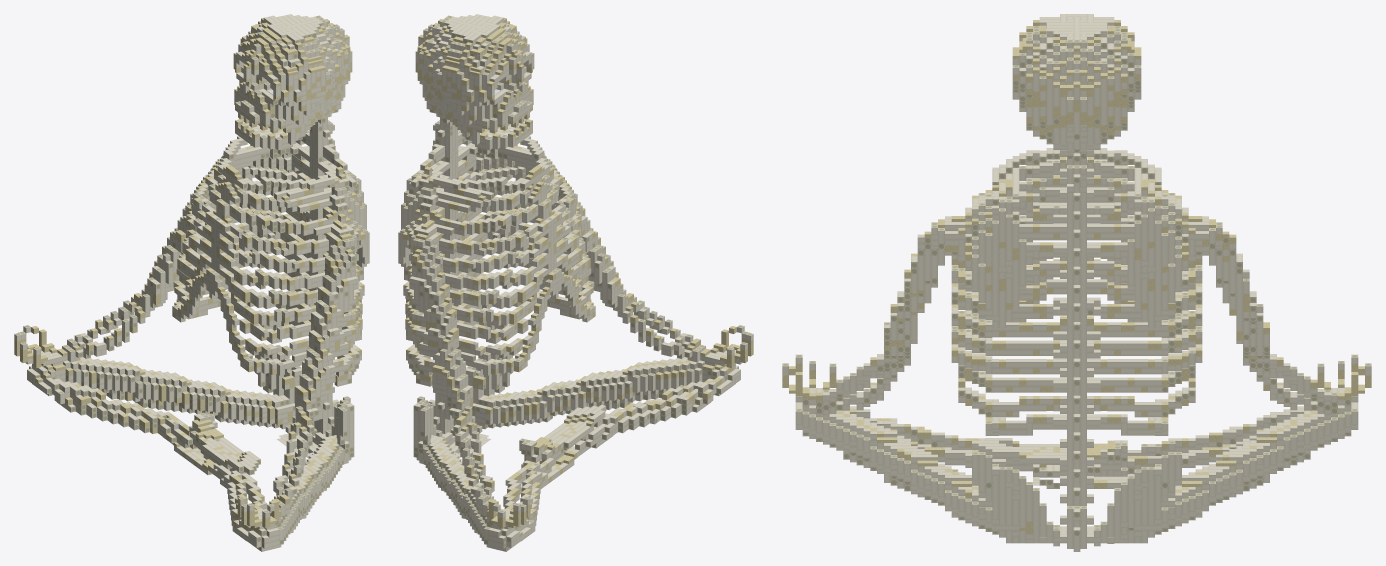
The picture shows the model from 3 angles, left to right: view 1: azimuth 30°, elevation 25°; view 2: azimuth 150°, elevation 25°; view 3: azimuth 270°, elevation 25°; orthographic projection. The views are drawn at different scales.
Parts seen in each view (by area): view 1: Bone_Block, Smooth_Sandstone, Smooth_Sandstone_Slab.001, Smooth_Sandstone_Stairs; view 2: Bone_Block, Smooth_Sandstone, Smooth_Sandstone_Slab.001, Smooth_Sandstone_Stairs; view 3: Bone_Block, Smooth_Sandstone, Smooth_Sandstone_Slab.001.
Part boxes in pixels (x1=…): Bone_Block: x1=14, y1=14, x2=369, y2=551; Smooth_Sandstone: x1=14, y1=34, x2=365, y2=533; Smooth_Sandstone_Slab.001: x1=20, y1=15, x2=356, y2=528; Smooth_Sandstone_Stairs: x1=233, y1=34, x2=323, y2=100; Bone_Block: x1=398, y1=14, x2=753, y2=551; Smooth_Sandstone: x1=402, y1=34, x2=753, y2=528; Smooth_Sandstone_Slab.001: x1=414, y1=15, x2=747, y2=536; Smooth_Sandstone_Stairs: x1=444, y1=34, x2=534, y2=100; Bone_Block: x1=782, y1=14, x2=1371, y2=551; Smooth_Sandstone: x1=782, y1=73, x2=1371, y2=533; Smooth_Sandstone_Slab.001: x1=789, y1=20, x2=1364, y2=486.
Size of the model in its own units: 44 by 83 by 87.
Materials: 1 (1 with a texture image).
